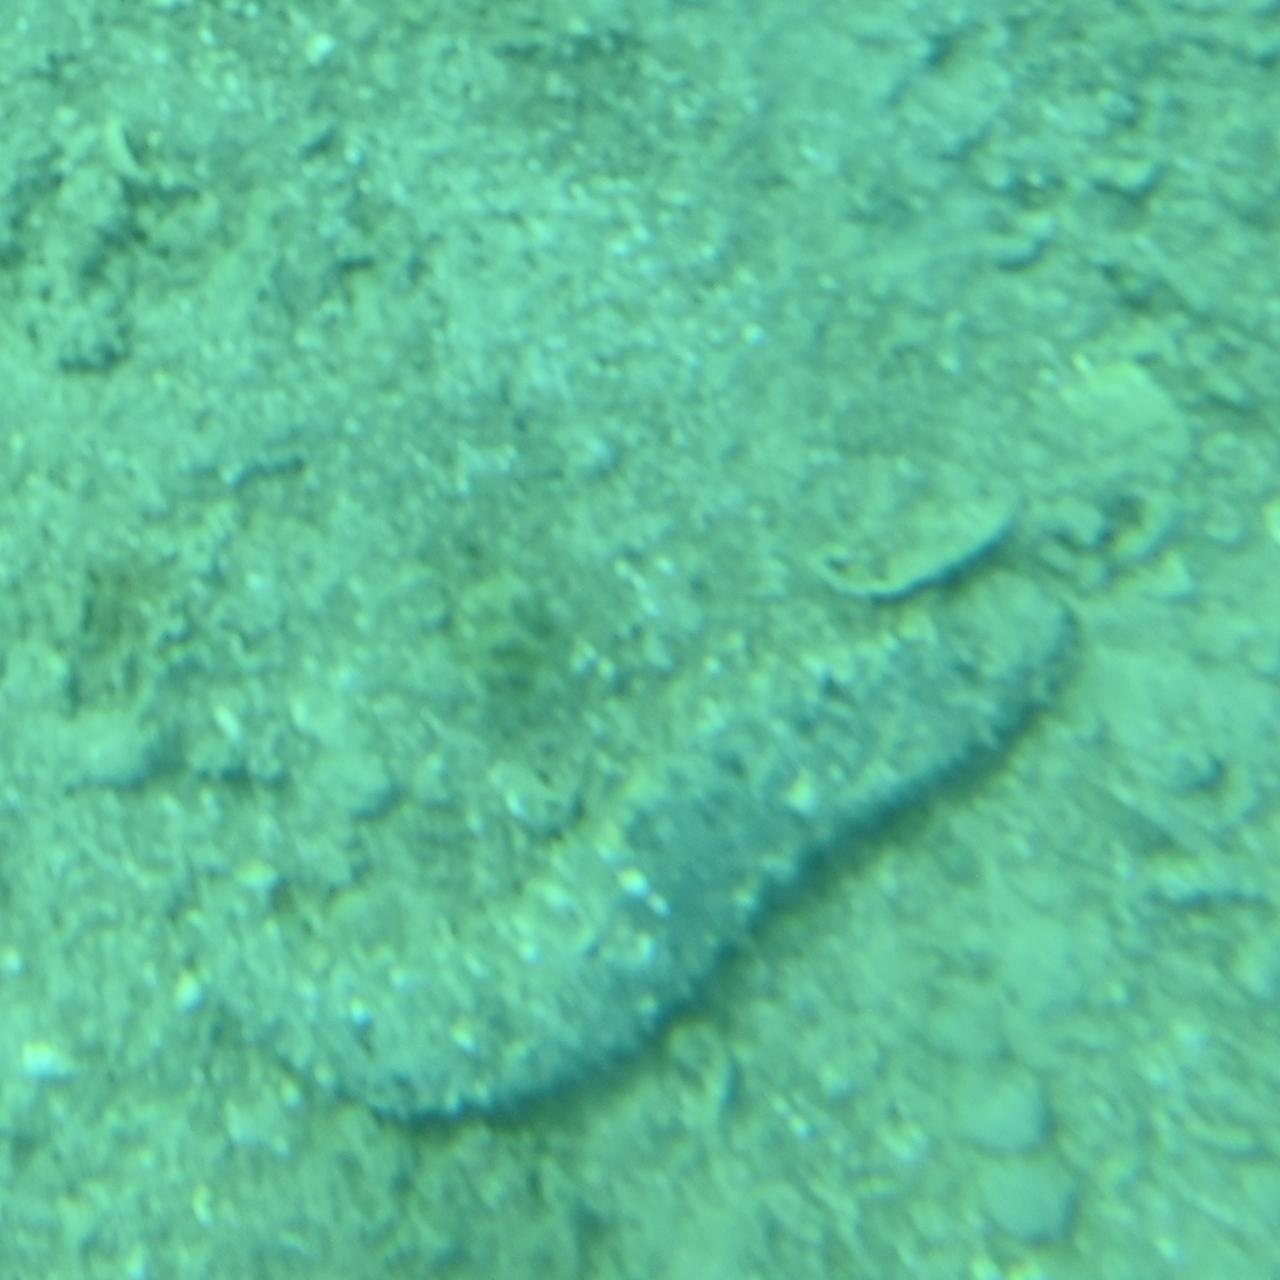Holothuria tubulosa: (179, 557, 1101, 1159)
